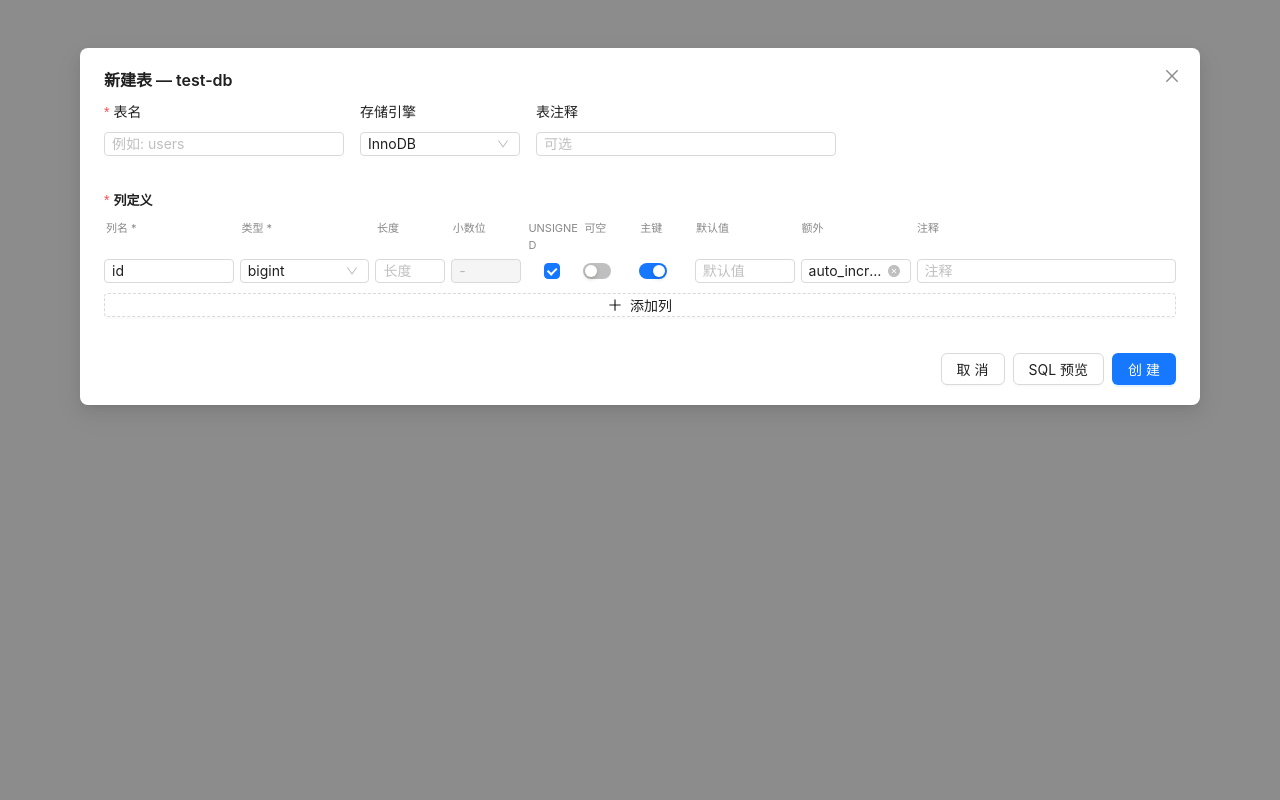
新建表切换数据类型 › SQL 预览先校验必填项，未填写表名不发起请求
Click the button "SQL 预览". click: (1058, 369)
box: [1012, 353, 1104, 385]
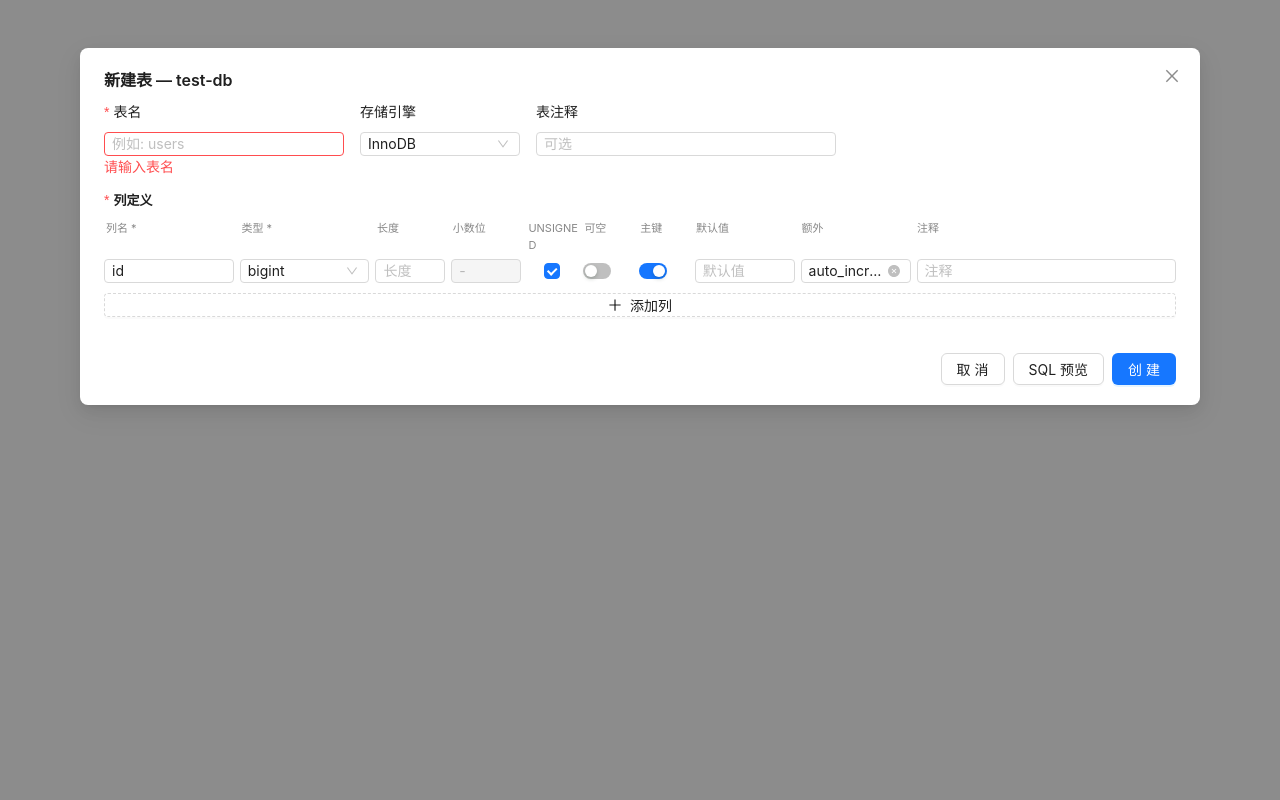
Expected: the text "请输入表名" is shown, [104, 158, 174, 175]
